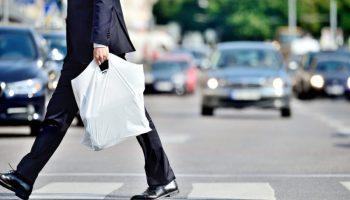plastic bag: (60, 52, 162, 154)
